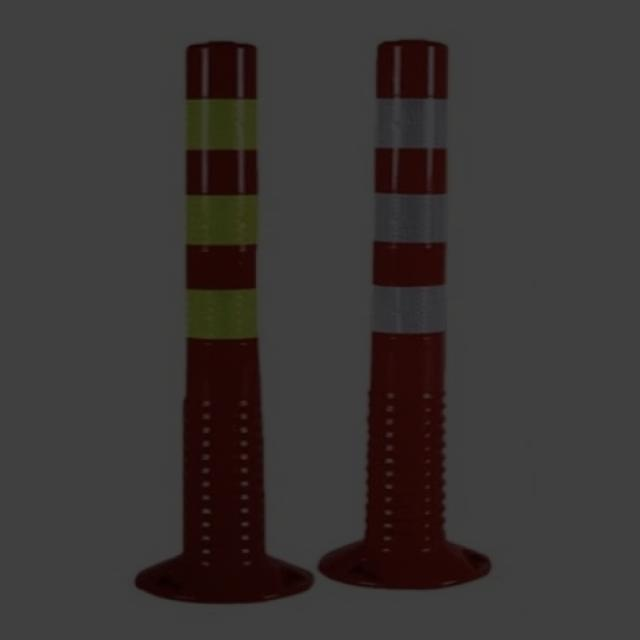Bollard: (177, 34, 270, 573), (362, 36, 455, 566)
